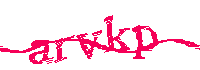a: (29, 38, 53, 65)
k: (102, 13, 131, 57)
p: (130, 23, 157, 60)
r: (54, 35, 75, 64)
v: (76, 30, 102, 60)
